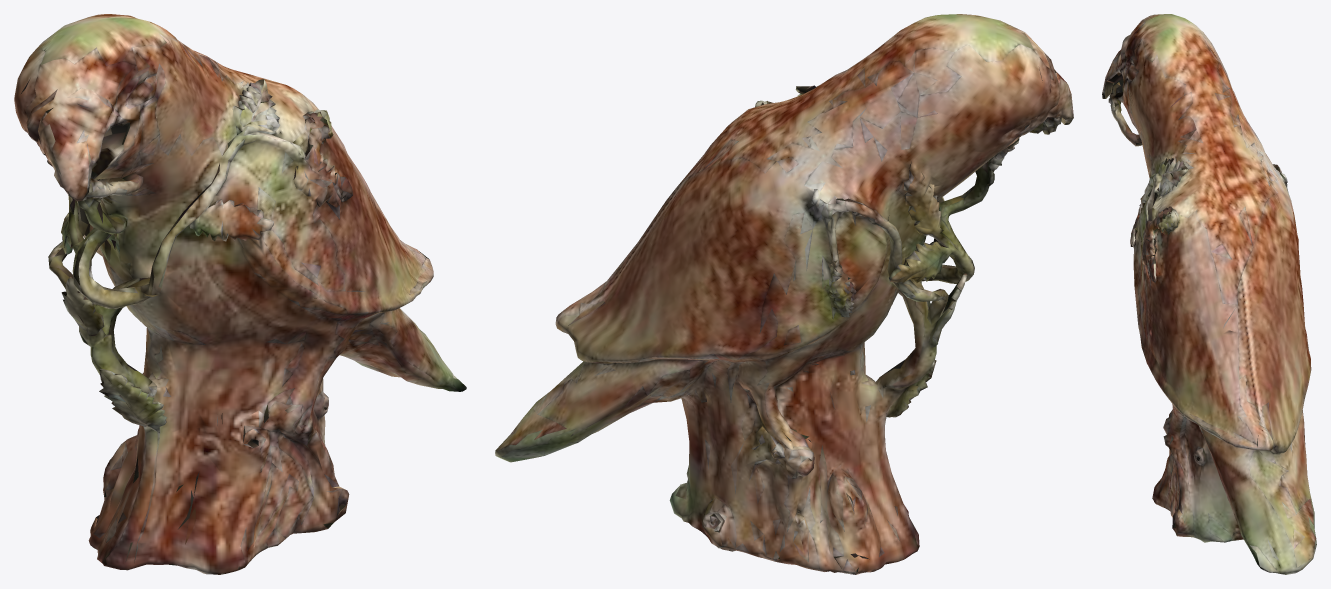
Rendered from parrot-20177426.glb.
3 views of the same model, side by side, from view 1: azimuth 30°, elevation 25°; view 2: azimuth 150°, elevation 25°; view 3: azimuth 270°, elevation 25° (orthographic). The views are drawn at different scales.
Parts seen in each view (by area): view 1: Mesh; view 2: Mesh; view 3: Mesh.
Part boxes in pixels (x1,y1,x2,y2): Mesh: [14, 14, 466, 574]; Mesh: [495, 14, 1073, 574]; Mesh: [1102, 14, 1316, 574].
Size of the model in its own units: 0.1472 by 0.156 by 0.0701.
1 material, 1 textured.
